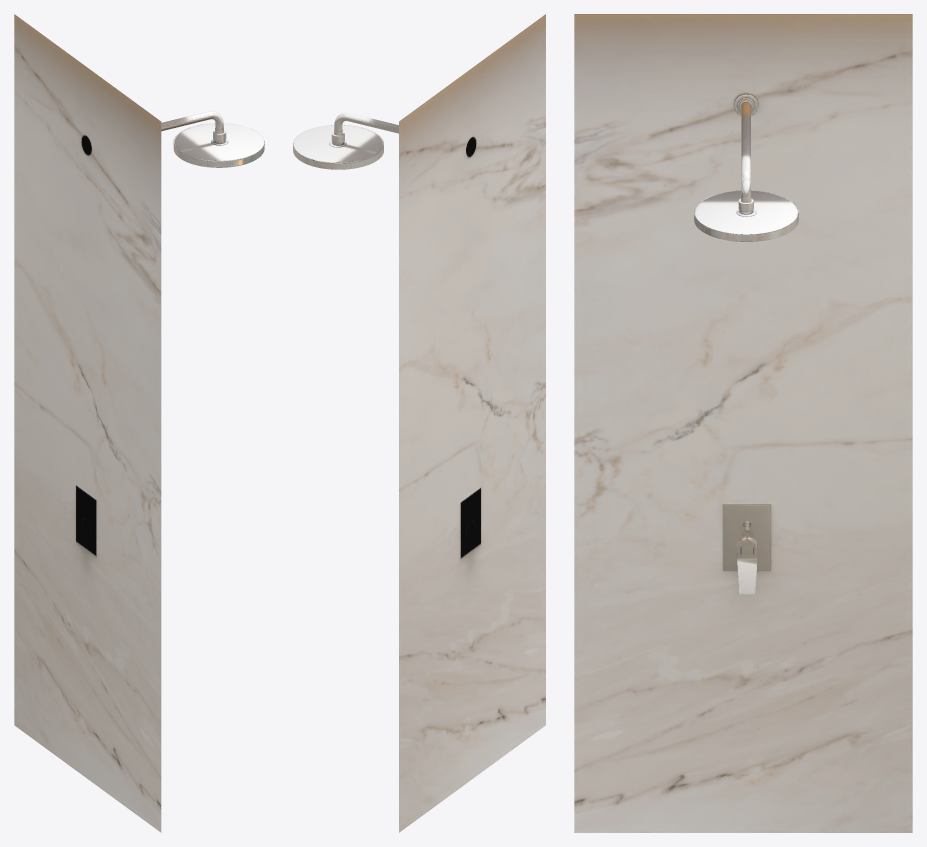
3 views of the same model, side by side, from view 1: azimuth 30°, elevation 25°; view 2: azimuth 150°, elevation 25°; view 3: azimuth 270°, elevation 25° (orthographic). The views are drawn at different scales.
Visible parts, largest first — view 1: f160123; view 2: f160123; view 3: f160123.
Boxes of the visible parts, x1=… form: f160123: x1=14, y1=14, x2=264, y2=832; f160123: x1=293, y1=14, x2=545, y2=832; f160123: x1=574, y1=14, x2=912, y2=832.
Size of the model in its own units: 0.7594 by 3 by 1.12.
1 material, 1 textured.
